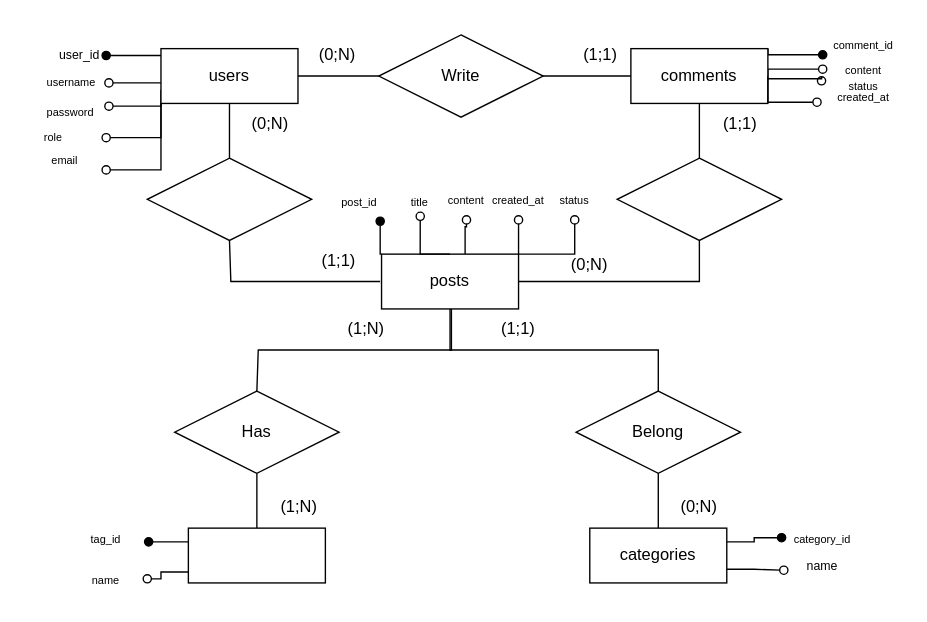
The diagram is 927 pixels wide and 622 high, and some of its shapes have lost their labels. The shapes that lost their labels are listed below. From the top down, each one's centre as x and y in pixels, then its label:
At point (229, 198): "Create".
At point (699, 198): "Receive".
At point (256, 555): "tags".
